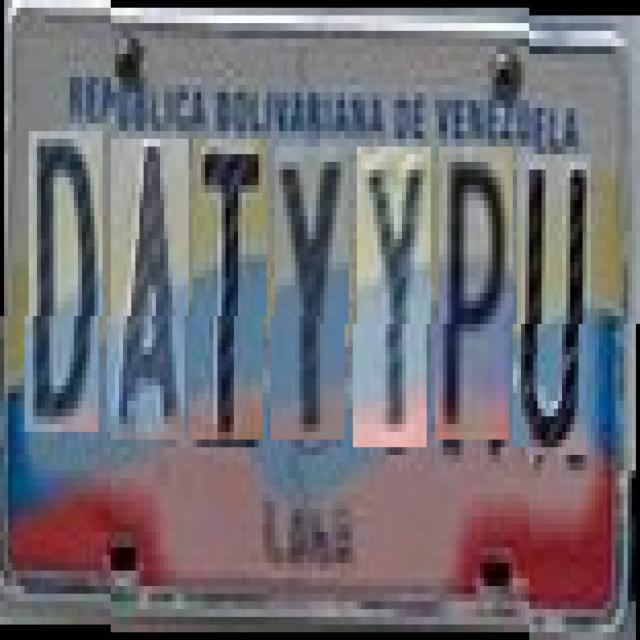A: (110, 138, 188, 440)
D: (28, 138, 102, 440)
P: (439, 146, 513, 440)
T: (192, 138, 266, 440)
U: (517, 146, 591, 448)
Y: (357, 146, 431, 448), (275, 146, 349, 440)
